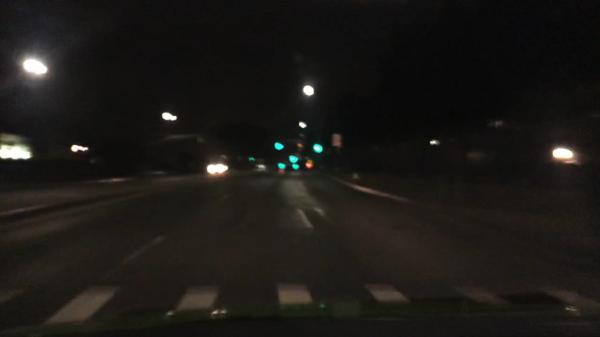car: (207, 162, 228, 175)
traffic light: (313, 144, 324, 154), (287, 154, 298, 163), (276, 162, 285, 172), (274, 142, 283, 151), (290, 164, 300, 171)
traffic sign: (331, 133, 343, 147)
